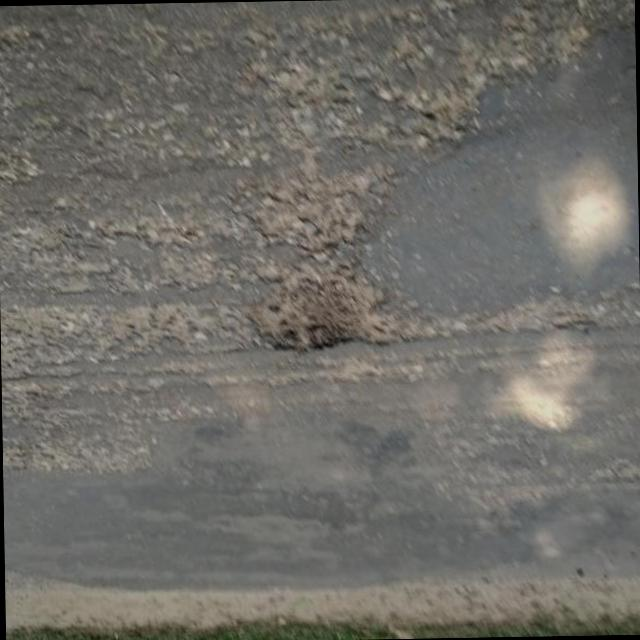pothole: (248, 260, 398, 360)
